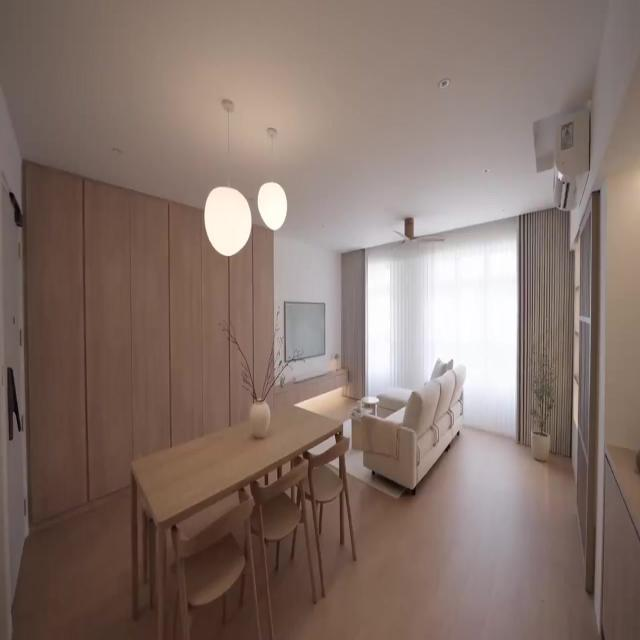obstacle: (130, 402, 344, 638), (360, 360, 466, 495)
